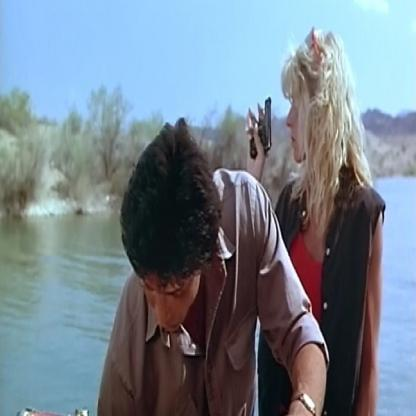Gun: (246, 95, 273, 162)
